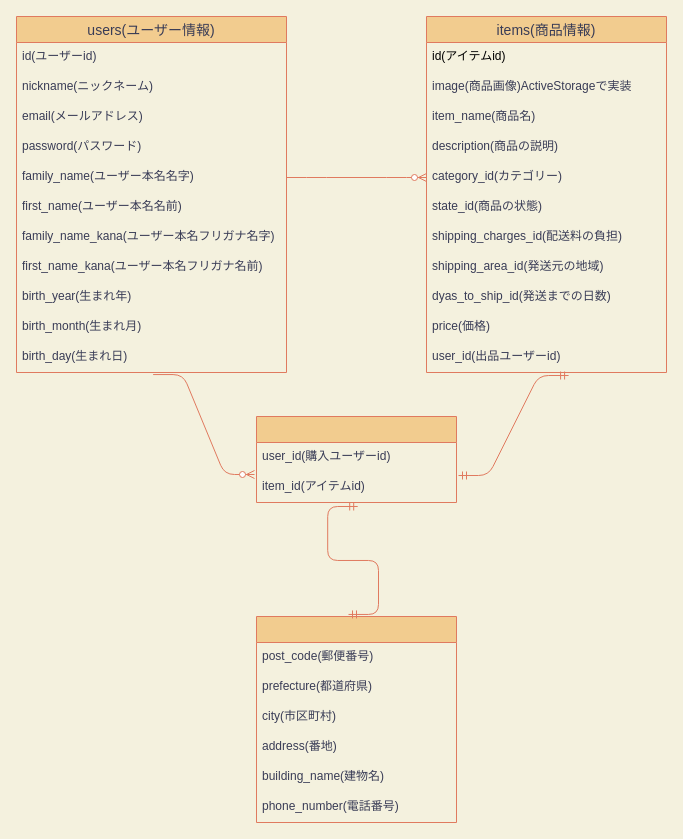
The diagram is 683 pixels wide and 839 high, and some of its shapes have lost their labels. Each missing label, with the box of its shape:
destinations(配送先): (256, 616, 456, 822)
Purchases(購入記録): (256, 416, 456, 502)
